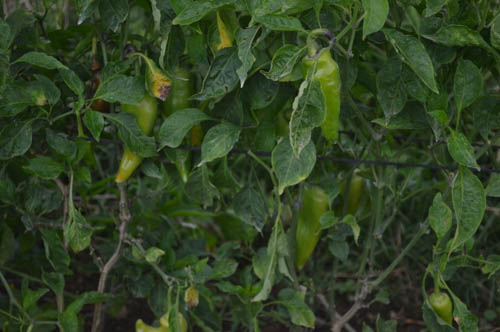ChiliPepper: (305, 58, 341, 144), (117, 100, 155, 179), (292, 189, 314, 266), (165, 75, 193, 116)
